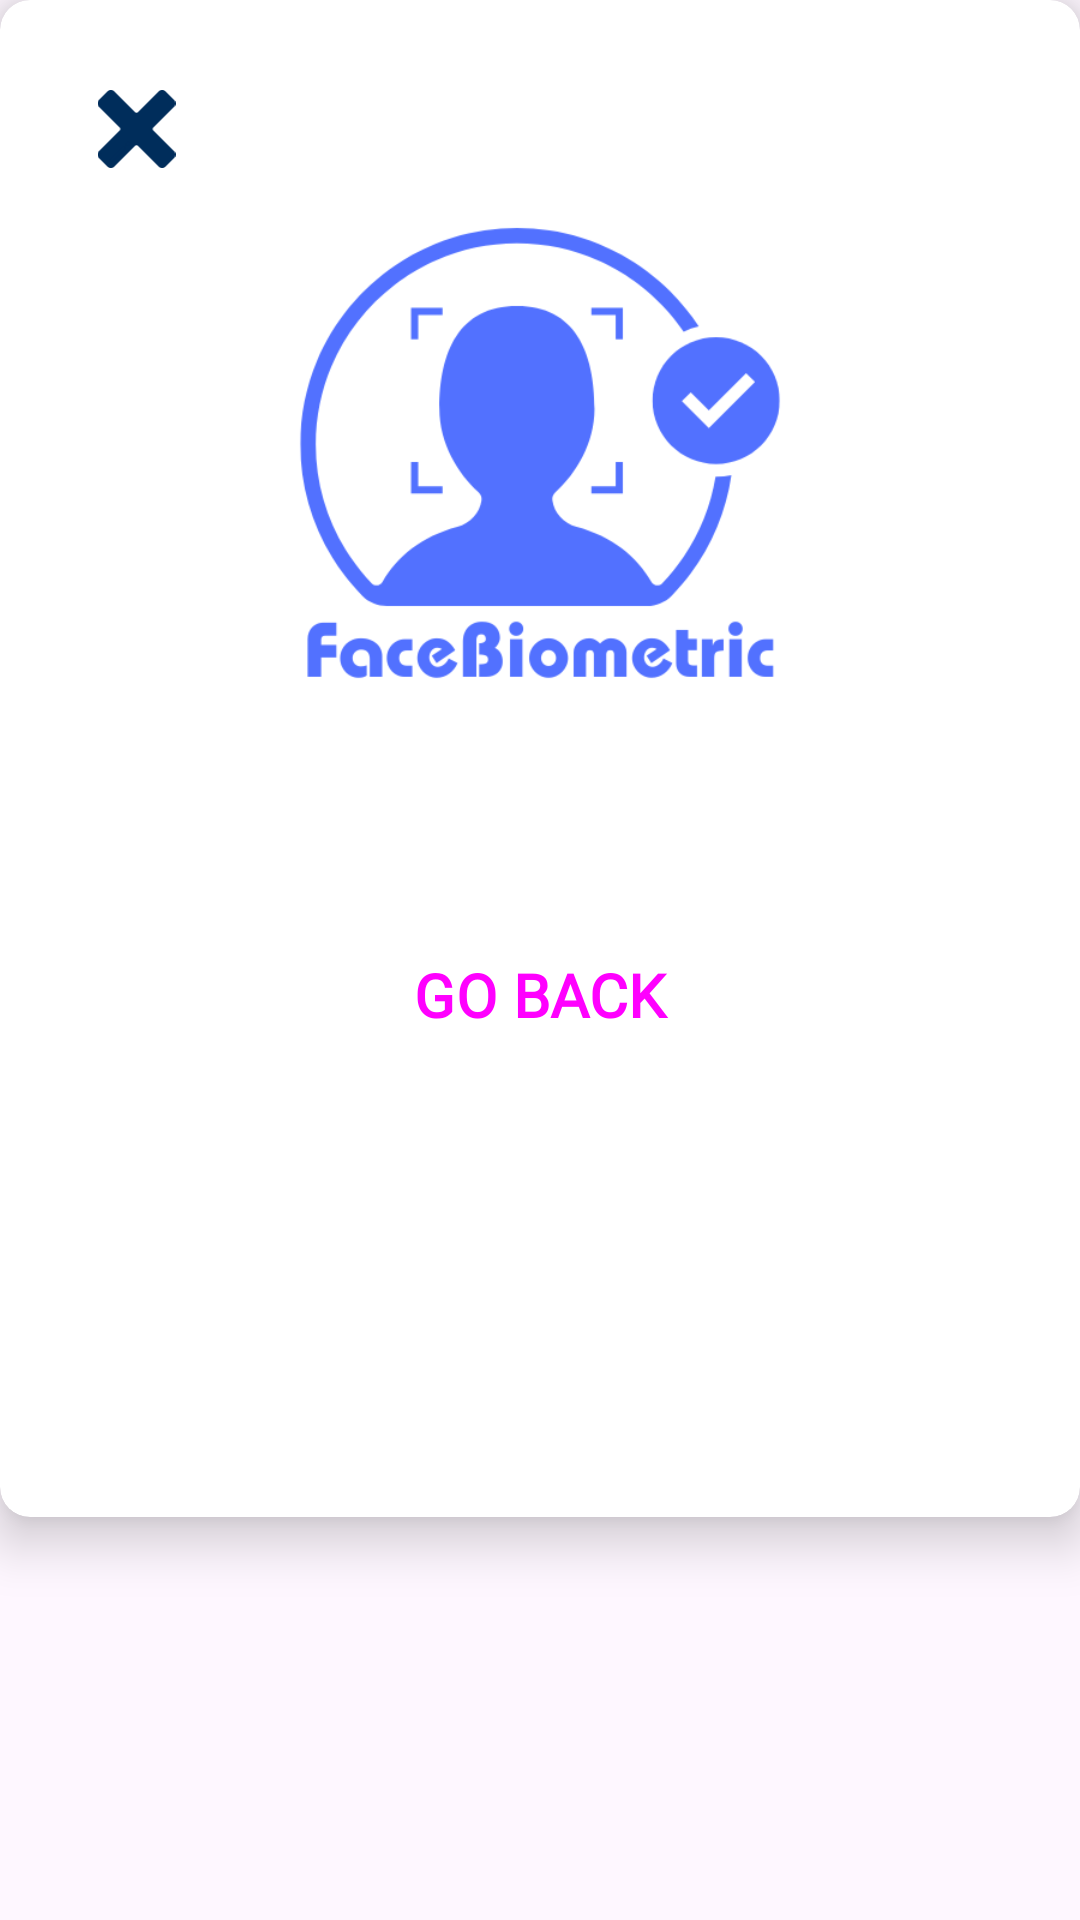

Icons on this 1080px x 1920px Android screen, each with its box as BBox(x1, y1, x2, y2):
cancel: BBox(98, 90, 176, 168)
